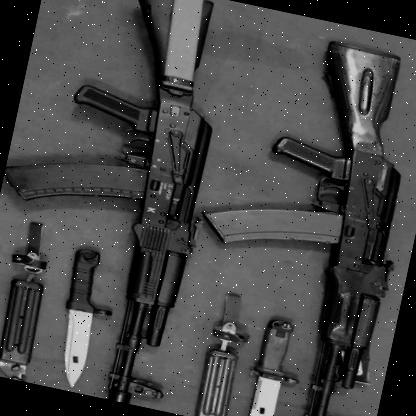rifle: (0, 0, 253, 412), (175, 22, 416, 416)
